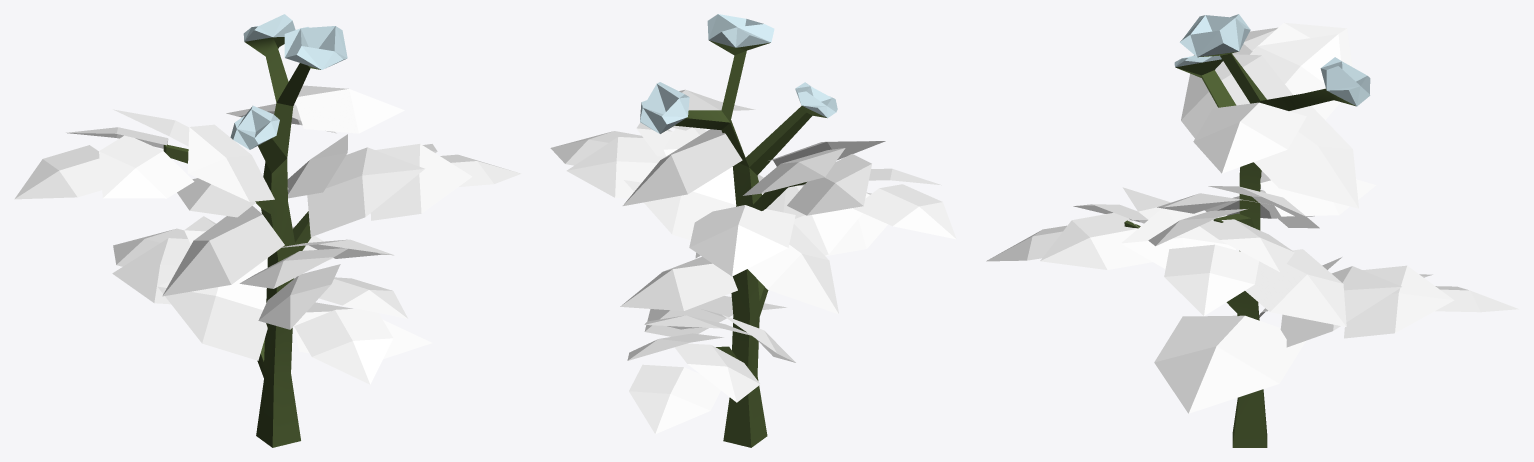
Rendered from potato_plant.glb.
3 renders of one model, left to right at view 1: azimuth 30°, elevation 25°; view 2: azimuth 150°, elevation 25°; view 3: azimuth 270°, elevation 25°, orthographic. The views are drawn at different scales.
Visible parts, largest first — view 1: SM_Prop_Plant_Potato_01_L; view 2: SM_Prop_Plant_Potato_01_L; view 3: SM_Prop_Plant_Potato_01_L.
Boxes of the visible parts, x1,y1,x2,y2 form: SM_Prop_Plant_Potato_01_L: (14,14,521,447); SM_Prop_Plant_Potato_01_L: (550,14,956,447); SM_Prop_Plant_Potato_01_L: (986,14,1518,447).
Size of the model in its own units: 1.18 by 1.01 by 1.13.
Materials: 2 (2 with a texture image).
